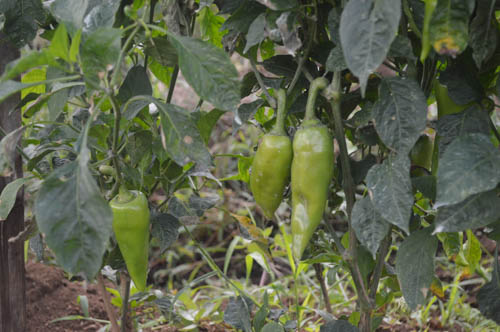ChiliPepper: (290, 128, 334, 268), (104, 192, 150, 290), (251, 136, 288, 222)
